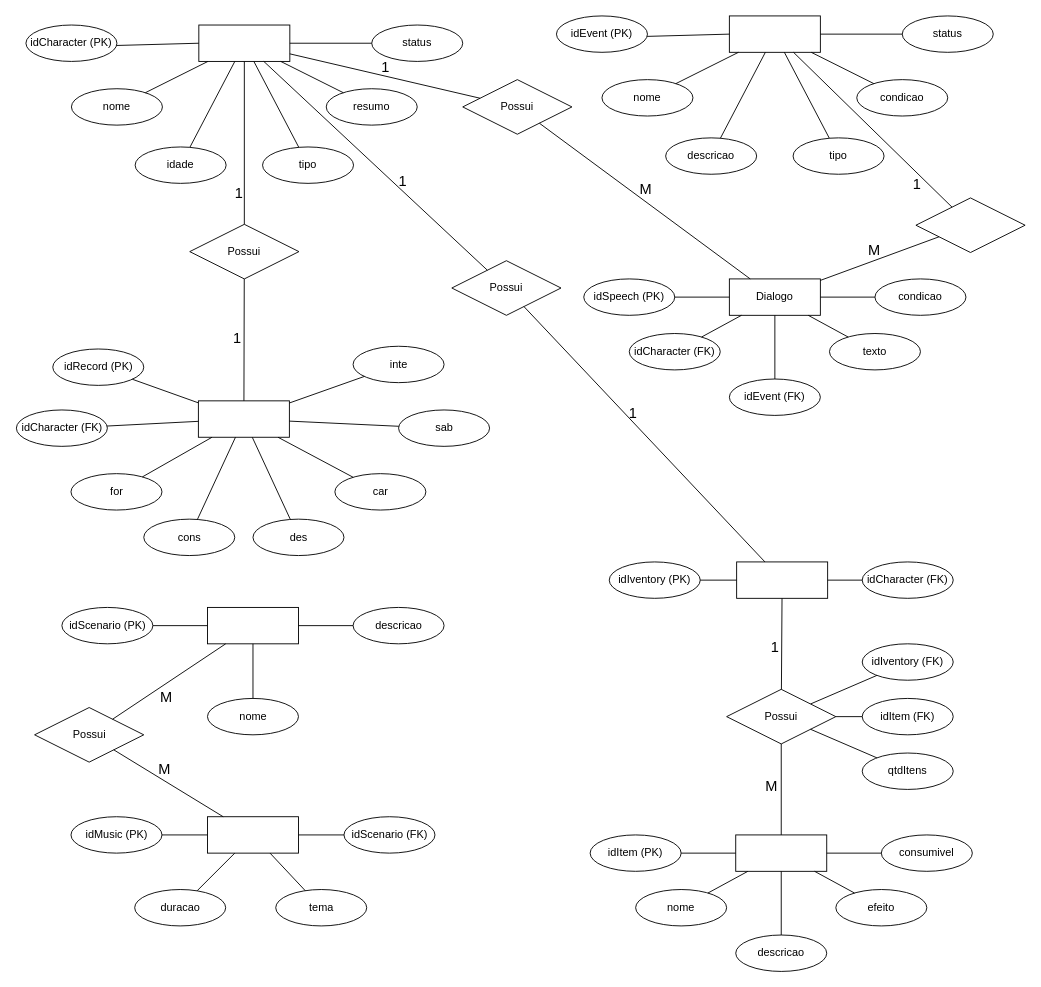
Image size: 1041x987. Some labels were removed from this diagram. The box of each missing label's shape, as (x1, y1, x2, y2) in pixels:
Cenario: (207, 607, 298, 644)
Evento: (728, 15, 820, 52)
Item: (735, 834, 827, 871)
Iventario: (736, 561, 828, 598)
Musica: (207, 816, 298, 853)
Personagem: (198, 24, 290, 61)
Pertence: (915, 197, 1025, 253)
Proficiencia: (197, 400, 289, 437)
